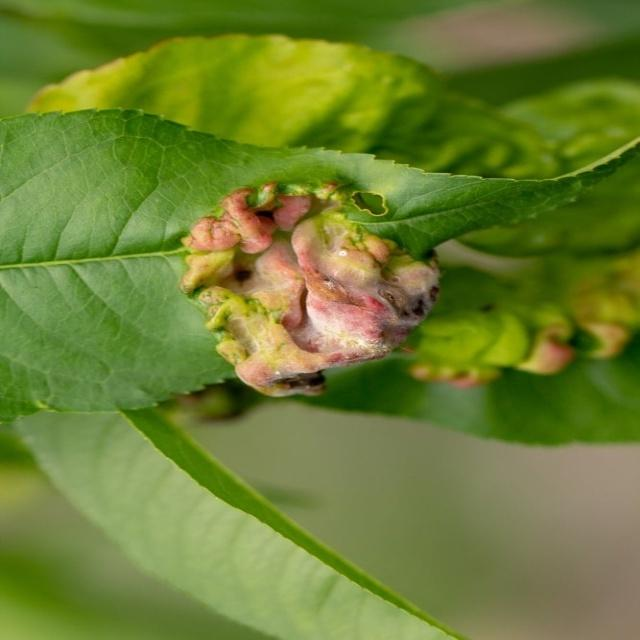leaf_curl: (116, 100, 457, 454)
